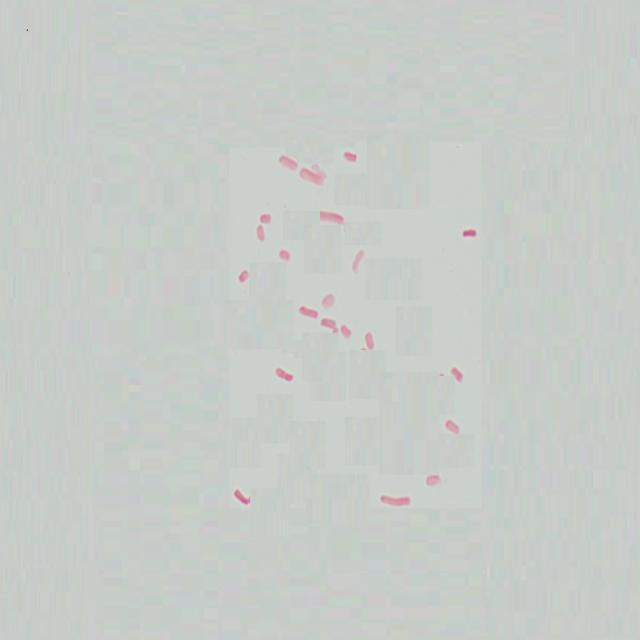E-coli: (295, 161, 324, 191), (378, 489, 414, 511), (229, 481, 255, 511), (316, 205, 346, 231), (348, 245, 368, 277), (273, 360, 296, 387), (309, 158, 331, 185), (277, 151, 296, 176), (444, 413, 463, 437), (320, 315, 341, 335), (342, 147, 361, 169), (364, 327, 377, 357), (297, 303, 318, 321), (424, 471, 444, 489), (450, 362, 467, 383), (460, 223, 478, 242), (340, 320, 355, 342), (319, 291, 336, 309), (255, 225, 268, 244), (260, 208, 274, 223), (238, 266, 251, 282), (279, 245, 291, 262)
